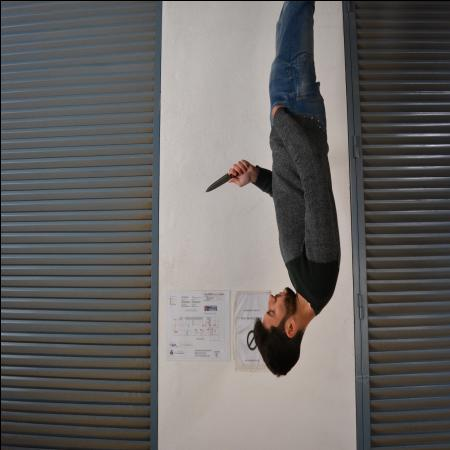long weapon: (202, 160, 244, 196)
